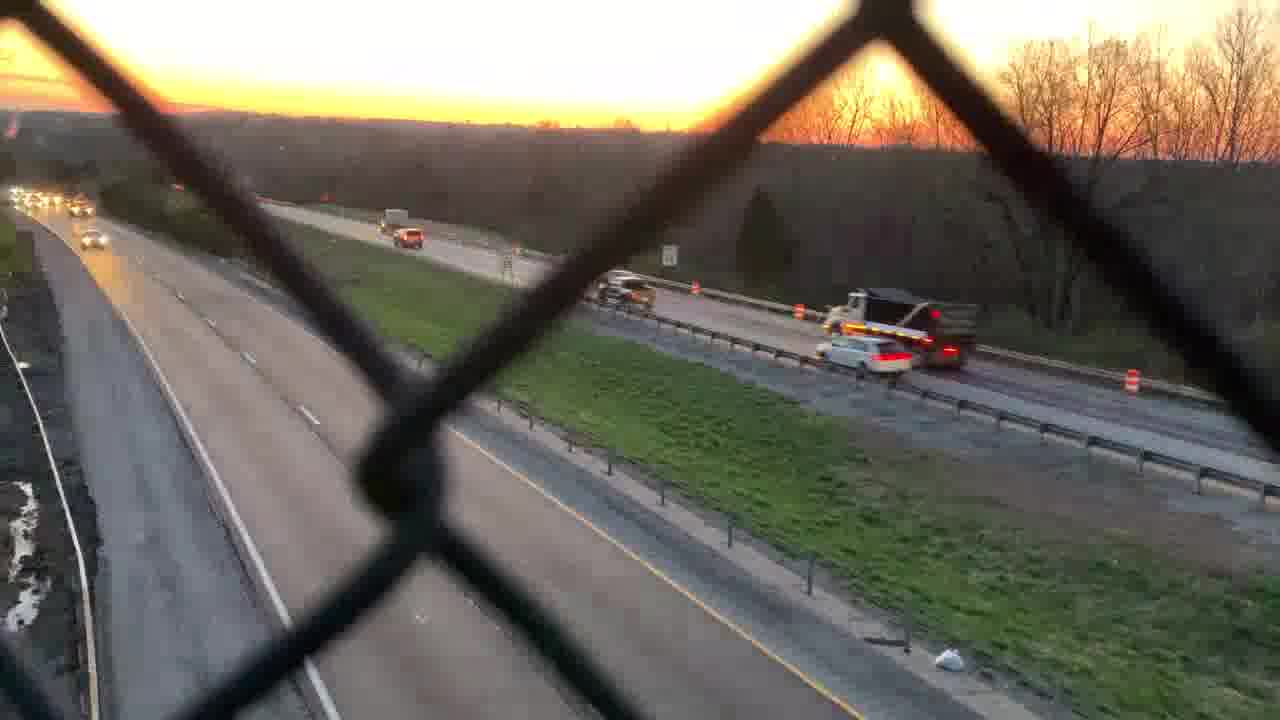heavyTruck: (824, 284, 984, 366)
largeCar: (808, 336, 913, 373), (394, 228, 427, 251)
lightTruck: (598, 271, 655, 314)
vehicle: (68, 228, 120, 257), (67, 198, 96, 218), (36, 192, 63, 211)
